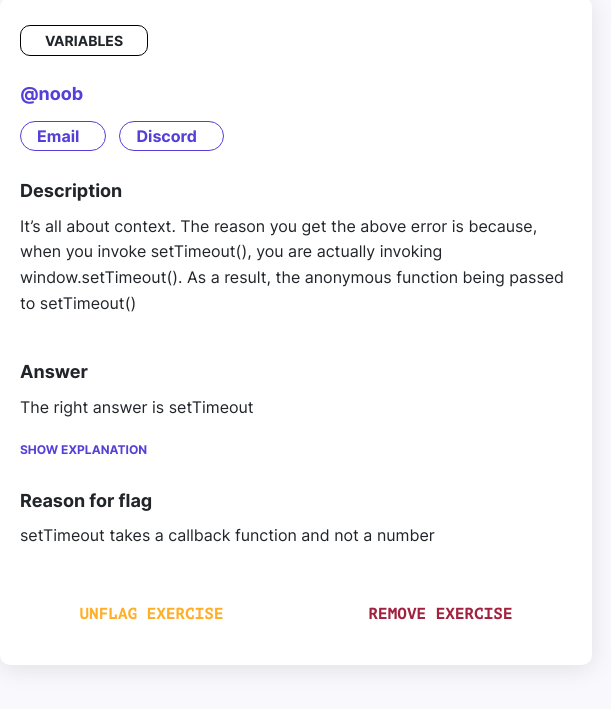
Test: AdminLessonExerciseCard component › Should show explanation on click
What coordinates should you click on to do the following:
click the button "Show explanation"
I would click on:
 (84, 450)
Its box is [20,444,147,456].
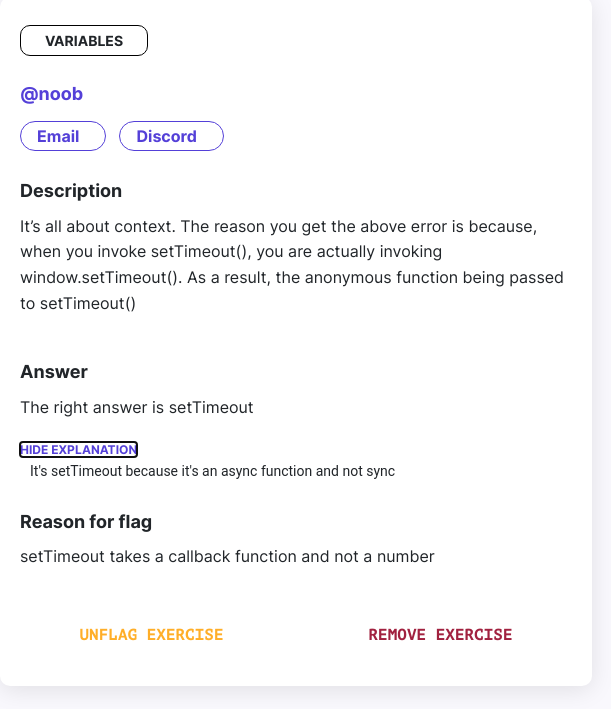
Now the button "Hide explanation" is shown, box [20,444,137,456]
